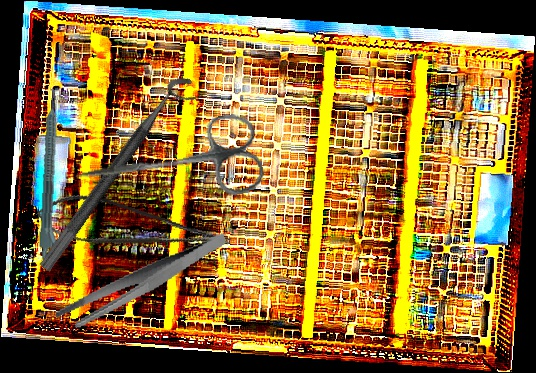Dressing Forceps: (46, 231, 237, 333)
Fixation Ring: (37, 70, 207, 285)
Handpiece: (38, 89, 66, 260)
Iris Scissors: (68, 110, 267, 220)
Micro Scissor: (31, 181, 234, 281)
